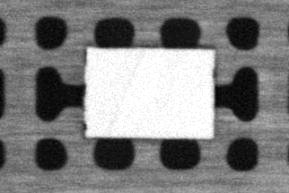DIE_CRACK: (103, 51, 147, 132)
